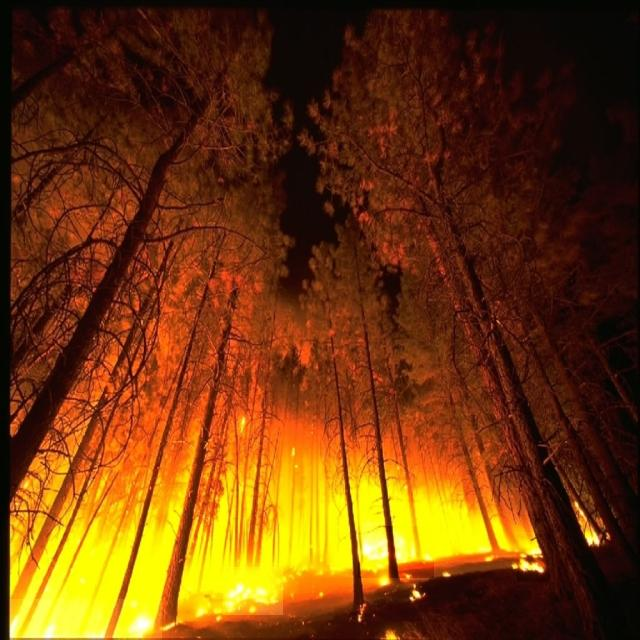Fire: (9, 599, 162, 640), (358, 526, 434, 578), (223, 567, 283, 615), (517, 534, 550, 582)
